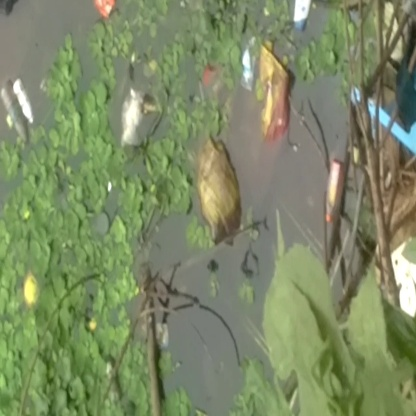bottle: (1, 78, 38, 141), (326, 161, 349, 226)
plastic-bag: (251, 47, 298, 144)
